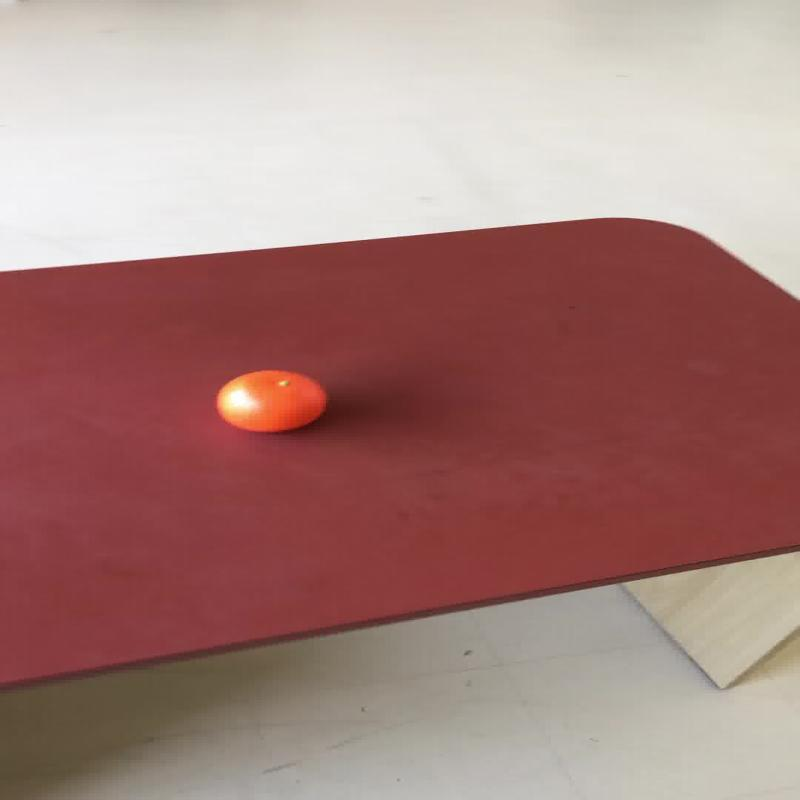orange: (214, 369, 327, 433)
